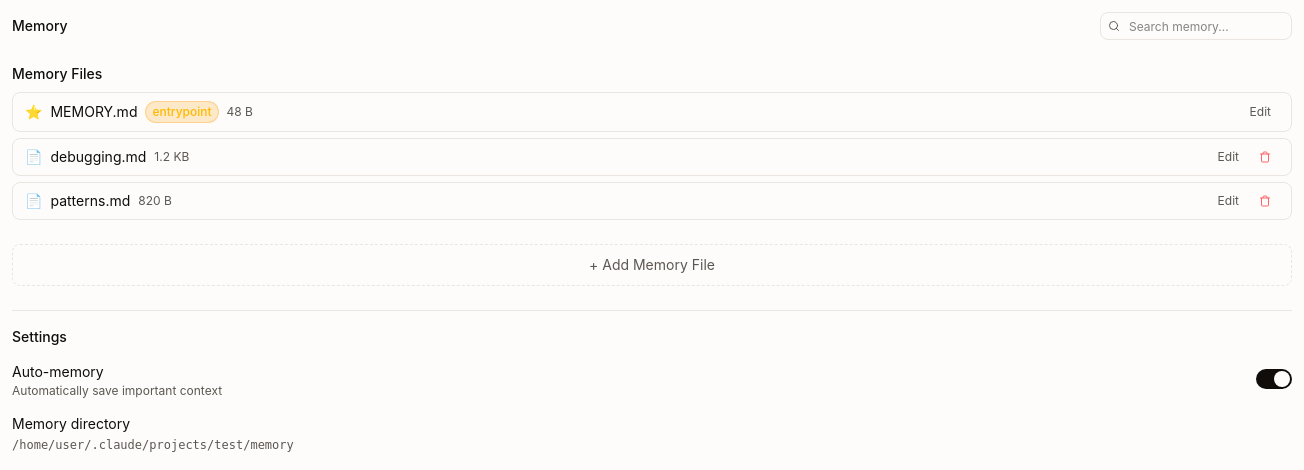
MemoryPanel › search filters results
The image size is (1304, 470).
In the field with test id "memory-search-input": (1196, 26) [1100,12,1292,40], type "Port"
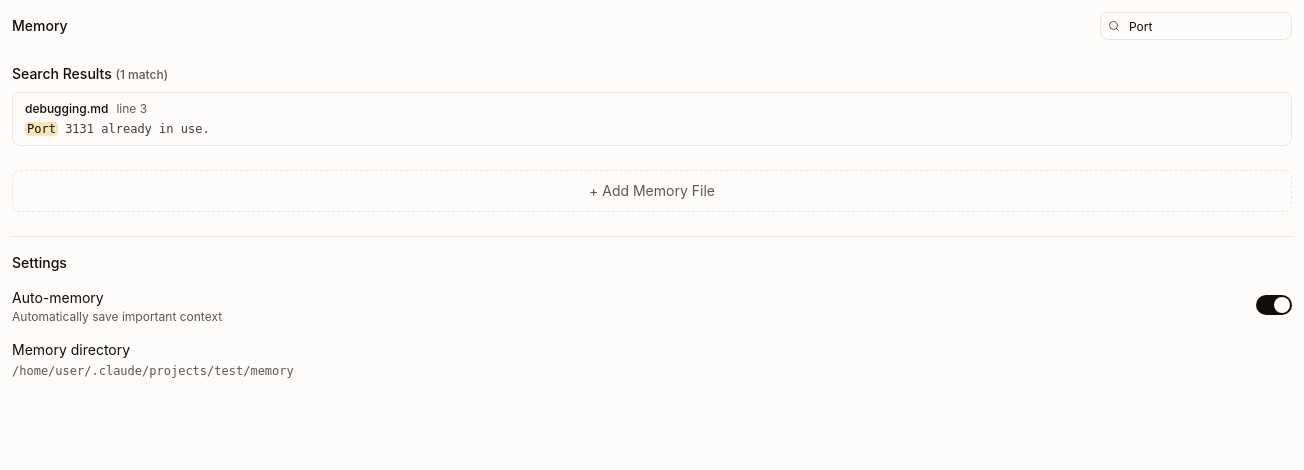
Expected: the element with test id "memory-search-results" is shown, [12,64,1292,146]
Expected: the element with test id "memory-search-result-item" is shown, [12,92,1292,146]
